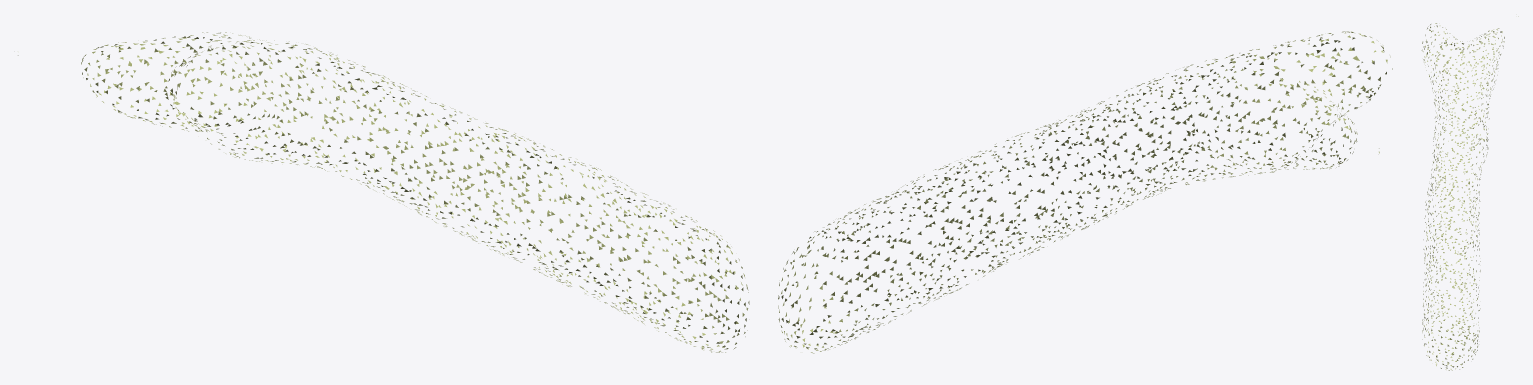
Rendered from morph_010.glb.
3 views of the same model, side by side, from view 1: azimuth 30°, elevation 25°; view 2: azimuth 150°, elevation 25°; view 3: azimuth 270°, elevation 25° (orthographic). The views are drawn at different scales.
Bounding box in the file's own units: 116 × 73.98 × 30.11.
